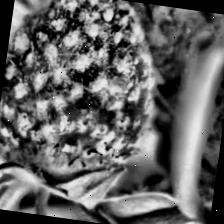Powdery Mildew Fruit: (0, 0, 167, 205)
